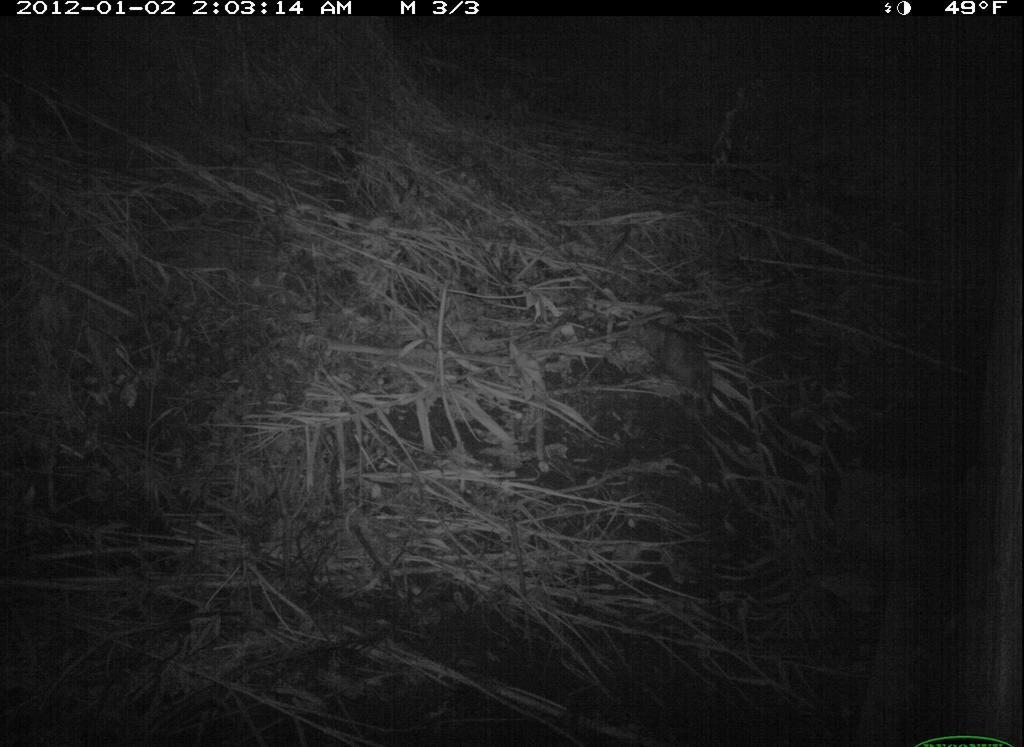opossum: (616, 304, 743, 443)
